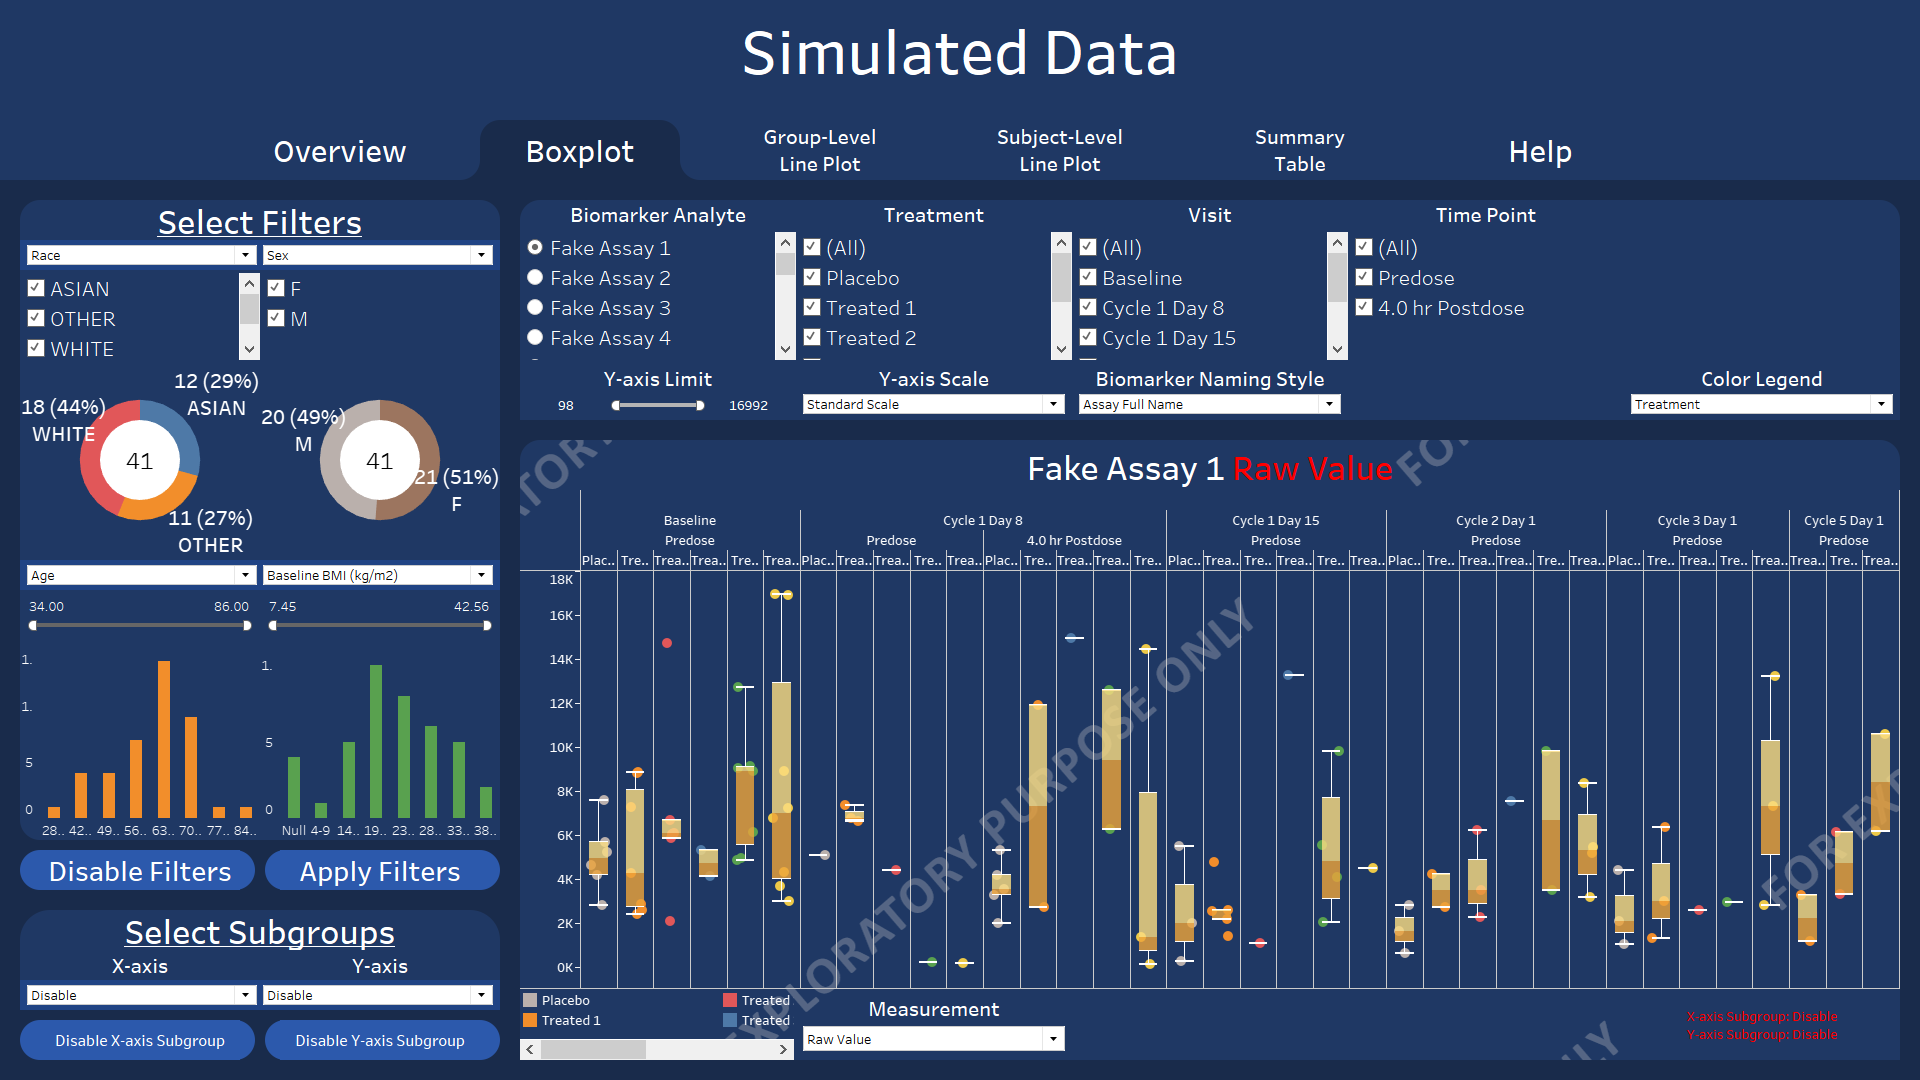

The page's visual inventory and layout, read from the dashboard file:
{"tool":"tableau","page":{"name":"Page 2","canvas":[1920,1080],"ordinal":1},"visuals":[{"type":"image","param":"./Images/Page 2.png","box":[0,0,1920,1080]},{"type":"text","box":[0,0,1920,100]},{"type":"image","param":"./Images/Logo.png","box":[1740,20,160,140]},{"type":"dashboard-object","box":[260,120,160,60]},{"type":"dashboard-object","box":[500,120,160,60]},{"type":"dashboard-object","box":[740,120,160,60]},{"type":"dashboard-object","box":[980,120,160,60]},{"type":"dashboard-object","box":[1220,120,160,60]},{"type":"dashboard-object","box":[1460,120,160,60]},{"type":"worksheet","title":"Measurement Holder","mark":"Automatic","box":[1840,180,20,20]},{"type":"text","box":[40,200,440,40]},{"type":"filter","title":"Box","param":"[federated.0bgs2np0ubmnyx161jsei1idfbdz].[none:Calculation_1399493605777907713:n","box":[520,200,276,160]},{"type":"filter","title":"Box","param":"[federated.0bgs2np0ubmnyx161jsei1idfbdz].[none:Treatment:nk]","box":[796,200,276,160]},{"type":"filter","title":"Box","param":"[federated.0bgs2np0ubmnyx161jsei1idfbdz].[none:Visit:nk]","box":[1072,200,276,160]},{"type":"filter","title":"Box","param":"[federated.0bgs2np0ubmnyx161jsei1idfbdz].[none:Time Point:nk]","box":[1348,200,276,160]},{"type":"blank","box":[1624,200,276,160]},{"type":"parameter","param":"[Parameters].[Parameter 6]","box":[20,240,240,30]},{"type":"parameter","param":"[Parameters].[Filter 1 (copy)_2147091142217383943]","box":[260,240,240,30]},{"type":"filter","title":"Apply Filters","param":"[federated.0bgs2np0ubmnyx161jsei1idfbdz].[Action (Filter A)]","box":[20,270,240,90]},{"type":"filter","title":"Apply Filters","param":"[federated.0bgs2np0ubmnyx161jsei1idfbdz].[Action (Filter B)]","box":[260,270,240,90]},{"type":"worksheet","title":"Filter A","mark":"Pie","rows":["Number of Records","Number of Records"],"box":[20,360,240,200]},{"type":"worksheet","title":"Filter B","mark":"Pie","rows":["Number of Records","Number of Records"],"box":[260,360,240,200]},{"type":"filter","title":"Limit & Title","param":"[federated.0bgs2np0ubmnyx161jsei1idfbdz].[none:Calculation1 (copy)_1927822166417","box":[520,360,276,60]},{"type":"parameter","param":"[Parameters].[Subject Log (copy)_837669554009337857]","box":[796,360,276,60]},{"type":"parameter","param":"[Parameters].[Parameter 7]","box":[1072,360,276,60]},{"type":"blank","box":[1348,360,276,60]},{"type":"parameter","param":"[Parameters].[Color Legend (copy) (copy)_1153484508291088388]","box":[1624,360,276,60]},{"type":"worksheet","title":"Limit & Title","mark":"Bar","box":[520,440,1380,50]},{"type":"worksheet","title":"Box","mark":"Circle","rows":["Parameter Subgroup (copy)_398005658140692481","Measurement Value"],"cols":["Calculation_1399493605777907713","Calculation_1434959453511581697","Visit","Calculation_202661983762165761","Treatment","Calculation_606508210331553792"],"box":[520,490,1380,499]},{"type":"parameter","param":"[Parameters].[Filter 10 (copy)_2147091143218429981]","box":[20,560,240,30]},{"type":"parameter","param":"[Parameters].[Filter 11 (copy)_2147091143220174886]","box":[260,560,240,30]},{"type":"filter","title":"Apply Filters","param":"[federated.0bgs2np0ubmnyx161jsei1idfbdz].[none:Filter 10 (copy)_2147091143217770","box":[20,590,240,60]},{"type":"filter","title":"Apply Filters","param":"[federated.0bgs2np0ubmnyx161jsei1idfbdz].[none:Filter 11 (copy)_2147091143219843","box":[260,590,240,60]},{"type":"worksheet","title":"Filter 1","mark":"Bar","rows":["SUBJID"],"cols":["Range_bin (copy)_1342635660859174917"],"box":[20,650,240,190]},{"type":"worksheet","title":"Filter 2","mark":"Bar","rows":["SUBJID"],"cols":["Range_bin (copy) (copy)_1342635660859191302"],"box":[260,650,240,190]},{"type":"worksheet","title":"Disable Filters","mark":"Bar","rows":["Calculation_1927822166357254144"],"box":[40,850,200,40]},{"type":"worksheet","title":"Apply Filters","mark":"Bar","rows":["Calculation_299207918635597825"],"box":[280,850,200,40]},{"type":"text","box":[40,910,440,40]},{"type":"text","box":[20,950,240,30]},{"type":"text","box":[260,950,240,30]},{"type":"parameter","param":"[Parameters].[Parameter 8]","box":[20,980,240,30]},{"type":"parameter","param":"[Parameters].[Parameter Subgroup (copy)_398005658140794882]","box":[260,980,240,30]},{"type":"worksheet","title":"Box Log","mark":"Circle","rows":["Parameter Subgroup (copy)_398005658140692481","Measurement Value"],"cols":["Calculation_1399493605777907713","Calculation_1434959453511581697","Visit","Calculation_202661983762165761","Treatment","Calculation_606508210331553792"],"box":[520,989,1380,1]},{"type":"legend","title":"Limit & Title","param":"[federated.0bgs2np0ubmnyx161jsei1idfbdz].[none:Calculation_398005657710465024:nk","box":[520,990,276,70]},{"type":"filter","title":"Measurement Holder","param":"[federated.0bgs2np0ubmnyx161jsei1idfbdz].[none:Measurement:nk]","box":[796,990,276,70]},{"type":"blank","box":[1072,990,276,70]},{"type":"blank","box":[1348,990,276,70]},{"type":"text","box":[1624,990,276,70]},{"type":"worksheet","title":"Disable Subgroup X","mark":"Bar","rows":["Disable Filters (copy)_1153484508334944261"],"box":[40,1020,200,40]},{"type":"worksheet","title":"Disable Subgroup Y","mark":"Bar","rows":["Disable Subgroup X (copy)_2403796301676781568"],"box":[280,1020,200,40]}]}

Visuals, with their boxes in screenshot pixels (x1, y1, x2, y2), scaled from the page's 1920x1080 canvas onto the 1920x1080 screenshot:
image: [0, 0, 1919, 1079]
text: [0, 0, 1919, 100]
image: [1740, 20, 1900, 160]
dashboard-object: [260, 120, 420, 180]
dashboard-object: [500, 120, 660, 180]
dashboard-object: [740, 120, 900, 180]
dashboard-object: [980, 120, 1140, 180]
dashboard-object: [1220, 120, 1380, 180]
dashboard-object: [1460, 120, 1620, 180]
"Measurement Holder" worksheet: [1840, 180, 1860, 200]
text: [40, 200, 480, 240]
"Box" filter: [520, 200, 796, 360]
"Box" filter: [796, 200, 1072, 360]
"Box" filter: [1072, 200, 1348, 360]
"Box" filter: [1348, 200, 1624, 360]
blank: [1624, 200, 1900, 360]
parameter: [20, 240, 260, 270]
parameter: [260, 240, 500, 270]
"Apply Filters" filter: [20, 270, 260, 360]
"Apply Filters" filter: [260, 270, 500, 360]
"Filter A" worksheet (Pie marks): [20, 360, 260, 560]
"Filter B" worksheet (Pie marks): [260, 360, 500, 560]
"Limit & Title" filter: [520, 360, 796, 420]
parameter: [796, 360, 1072, 420]
parameter: [1072, 360, 1348, 420]
blank: [1348, 360, 1624, 420]
parameter: [1624, 360, 1900, 420]
"Limit & Title" worksheet (Bar marks): [520, 440, 1900, 490]
"Box" worksheet (Circle marks): [520, 490, 1900, 989]
parameter: [20, 560, 260, 590]
parameter: [260, 560, 500, 590]
"Apply Filters" filter: [20, 590, 260, 650]
"Apply Filters" filter: [260, 590, 500, 650]
"Filter 1" worksheet (Bar marks): [20, 650, 260, 840]
"Filter 2" worksheet (Bar marks): [260, 650, 500, 840]
"Disable Filters" worksheet (Bar marks): [40, 850, 240, 890]
"Apply Filters" worksheet (Bar marks): [280, 850, 480, 890]
text: [40, 910, 480, 950]
text: [20, 950, 260, 980]
text: [260, 950, 500, 980]
parameter: [20, 980, 260, 1010]
parameter: [260, 980, 500, 1010]
"Box Log" worksheet (Circle marks): [520, 989, 1900, 990]
"Limit & Title" legend: [520, 990, 796, 1060]
"Measurement Holder" filter: [796, 990, 1072, 1060]
blank: [1072, 990, 1348, 1060]
blank: [1348, 990, 1624, 1060]
text: [1624, 990, 1900, 1060]
"Disable Subgroup X" worksheet (Bar marks): [40, 1020, 240, 1060]
"Disable Subgroup Y" worksheet (Bar marks): [280, 1020, 480, 1060]
